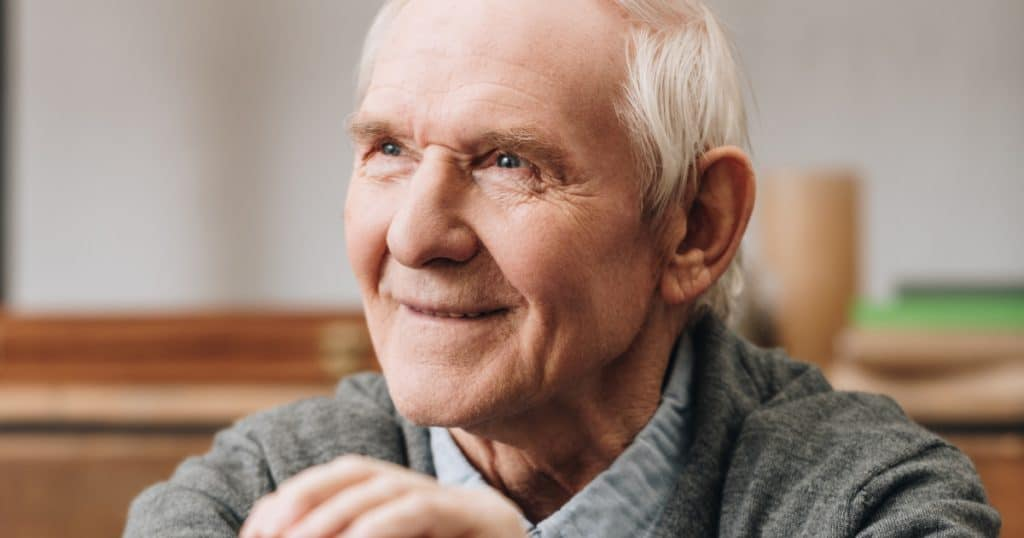with_mask: (340, 60, 627, 418)
